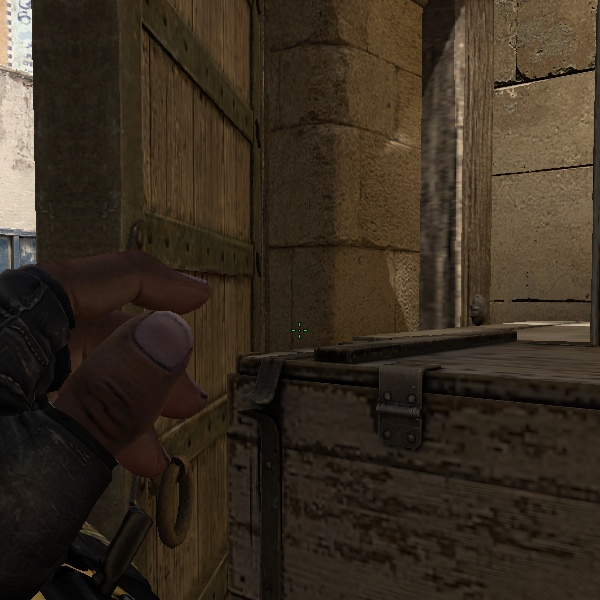t_body: (0, 253, 281, 598)
